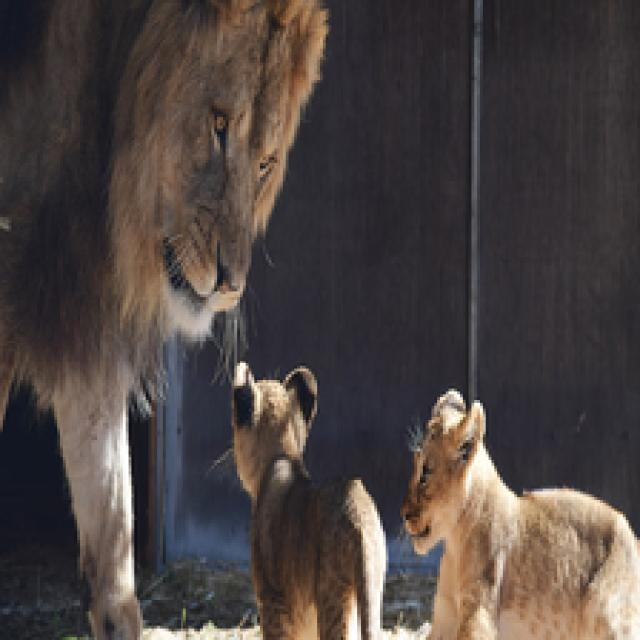lion: (0, 0, 348, 629), (390, 388, 640, 621), (208, 364, 400, 598)
